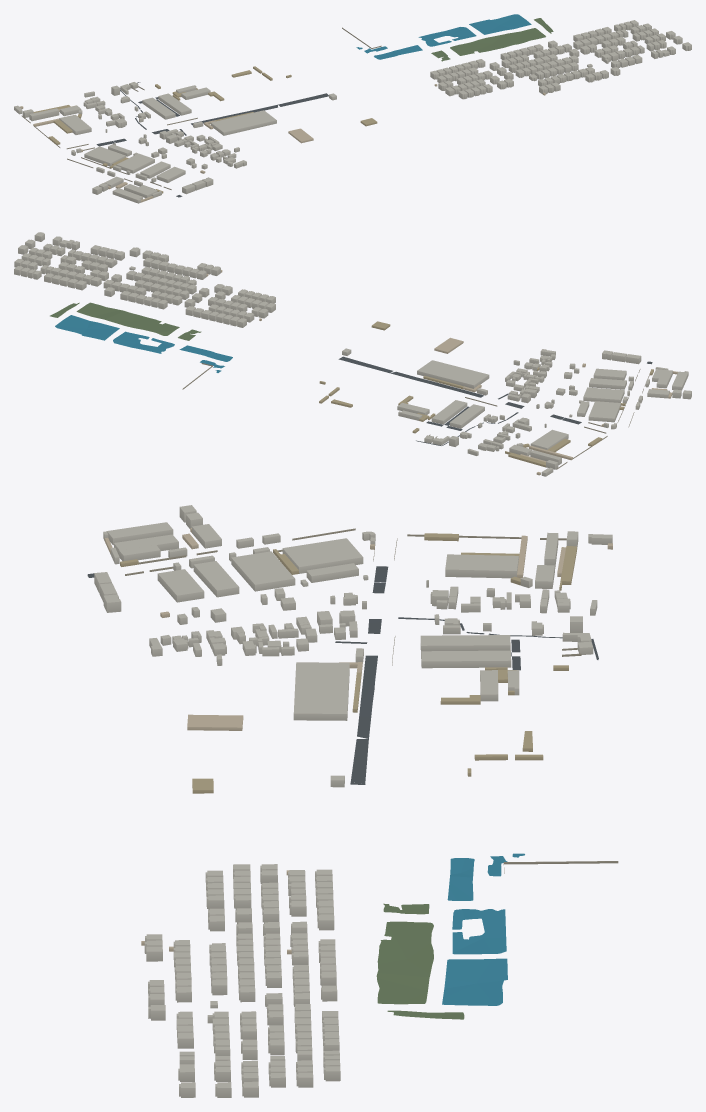
Rendered from site-all.glb.
3 renders of one model, top to bottom at view 1: azimuth 30°, elevation 25°; view 2: azimuth 150°, elevation 25°; view 3: azimuth 270°, elevation 25°, orthographic. The views are drawn at different scales.
Visible parts, largest first — view 1: site-all; view 2: site-all; view 3: site-all.
Part boxes in pixels (bbox=[...]): site-all: bbox=[14, 14, 691, 203]; site-all: bbox=[14, 232, 691, 476]; site-all: bbox=[87, 505, 618, 1097].
Size of the model in its own units: 1157 by 13.38 by 445.
